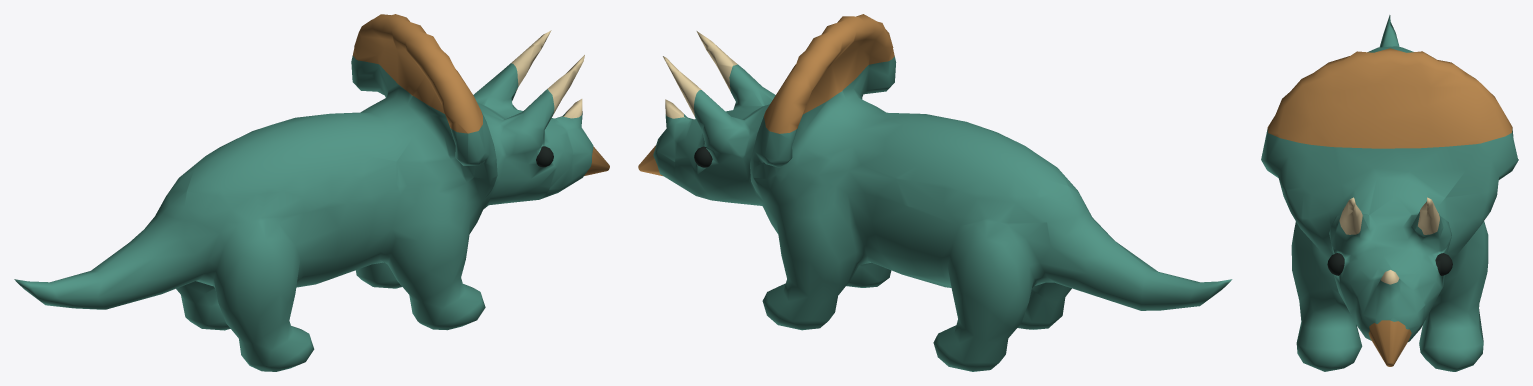
Rendered from NEW_RECOVERY_101_LOD1.glb.
3 views of the same model, side by side, from view 1: azimuth 30°, elevation 25°; view 2: azimuth 150°, elevation 25°; view 3: azimuth 270°, elevation 25° (orthographic). The views are drawn at different scales.
Parts seen in each view (by area): view 1: Triceratops_LOD1; view 2: Triceratops_LOD1; view 3: Triceratops_LOD1.
Part boxes in pixels (<box>): Triceratops_LOD1: <box>14,14,609,371</box>; Triceratops_LOD1: <box>638,14,1232,371</box>; Triceratops_LOD1: <box>1261,15,1518,371</box>.
Size of the model in its own units: 6.77 by 3.1 by 2.34.
